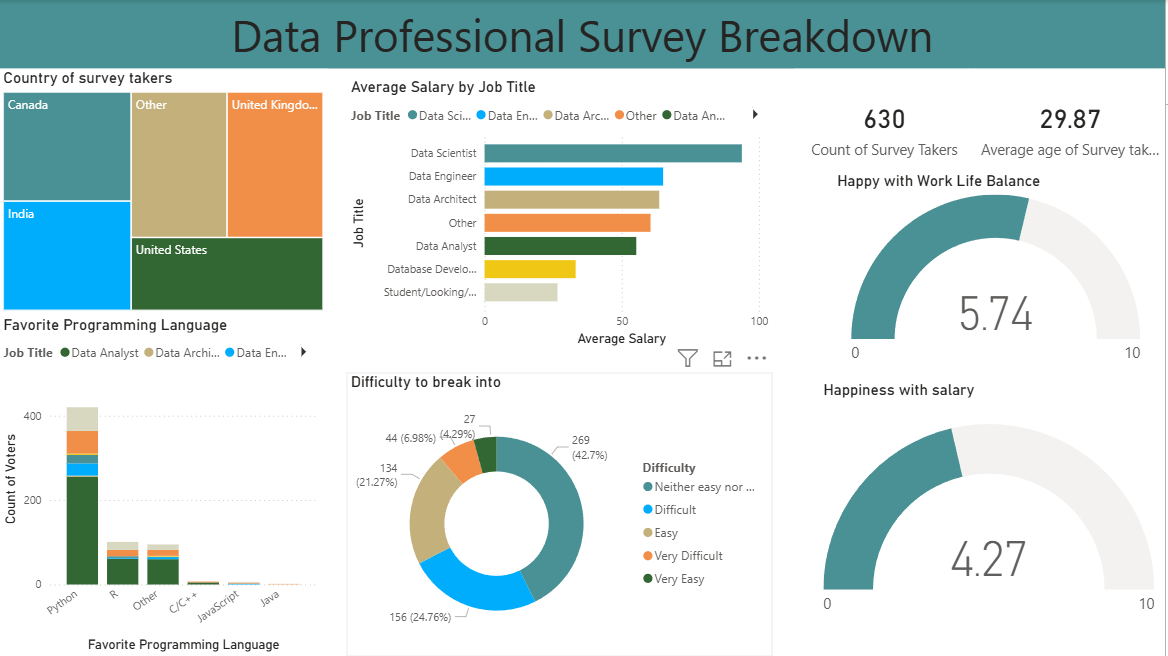

The page's visual inventory and layout, read from the dashboard file:
{"tool":"powerbi","page":{"name":"Page 1","canvas":[1280,720],"ordinal":0},"visuals":[{"type":"textbox","box":[0,0,1280.3,75.5],"z":0},{"type":"card","fields":{"Values":["CountNonNull(Data Professional Survey.Unique ID)"]},"box":[872.7,75.5,199,129],"z":1000},{"type":"card","fields":{"Values":["Avg(Data Professional Survey.Q10 - Current Age)"]},"box":[1071.7,75.5,208.6,129],"z":2000},{"type":"barChart","title":"Average Salary by Job Title","fields":{"Category":["Data Professional Survey.Q1 - Which Title Best Fits your Current Role?.1"],"Y":["Avg(Data Professional Survey.Average salary)"],"Series":["Data Professional Survey.Q1 - Which Title Best Fits your Current Role?.1"]},"box":[381.5,85.1,467.9,299.1],"z":3000},{"type":"columnChart","title":" Favorite Programming Language","fields":{"Category":["Data Professional Survey.Q5 - Favorite Programming Language.1"],"Y":["CountNonNull(Data Professional Survey.Unique ID)"],"Series":["Data Professional Survey.Q1 - Which Title Best Fits your Current Role?.1"]},"box":[0,345.8,354,374.6],"z":3001},{"type":"treemap","title":"Country of survey takers","fields":{"Values":["Count(Data Professional Survey.Q11 - Which Country do you live in?.1)"],"Group":["Data Professional Survey.Q11 - Which Country do you live in?.1"]},"box":[0,75.5,360.9,270.3],"z":3002},{"type":"gauge","title":"Happy with Work Life Balance","fields":{"Y":["Avg(Data Professional Survey.Q6 - How Happy are you in your Current Position with the following? (Work/Life Balance))"],"MinValue":["Min(Data Professional Survey.Q6 - How Happy are you in your Current Position with the following? (Work/Life Balance))1"],"MaxValue":["Max(Data Professional Survey.Q6 - How Happy are you in your Current Position with the following? (Work/Life Balance))2"]},"box":[915.3,188,358.1,220.9],"z":3003},{"type":"gauge","title":"Happiness with salary","fields":{"Y":["Avg(Data Professional Survey.Q6 - How Happy are you in your Current Position with the following? (Salary))"],"MinValue":["Min(Data Professional Survey.Q6 - How Happy are you in your Current Position with the following? (Salary))"],"MaxValue":["Max(Data Professional Survey.Q6 - How Happy are you in your Current Position with the following? (Salary))"]},"box":[900.2,417.2,373.2,289.5],"z":3004},{"type":"donutChart","title":"Difficulty to break into","fields":{"Category":["Data Professional Survey.Q7 - How difficult was it for you to break into Data?"],"Y":["CountNonNull(Data Professional Survey.Q7 - How difficult was it for you to break into Data?)"]},"box":[381.5,408.9,467.9,311.5],"z":3005}]}

Visuals, with their boxes in screenshot pixels (x1, y1, x2, y2), scaled from the page's 1280x720 canvas onto the 1168x656 screenshot:
textbox: Rect(0, 0, 1167, 69)
card - CountNonNull(Data Professional Survey.Unique ID): Rect(796, 69, 978, 186)
card - Avg(Data Professional Survey.Q10 - Current Age): Rect(978, 69, 1167, 186)
"Average Salary by Job Title" barChart: Rect(348, 78, 775, 350)
" Favorite Programming Language" columnChart: Rect(0, 315, 323, 655)
"Country of survey takers" treemap: Rect(0, 69, 329, 315)
"Happy with Work Life Balance" gauge: Rect(835, 171, 1162, 373)
"Happiness with salary" gauge: Rect(821, 380, 1162, 644)
"Difficulty to break into" donutChart: Rect(348, 373, 775, 655)
